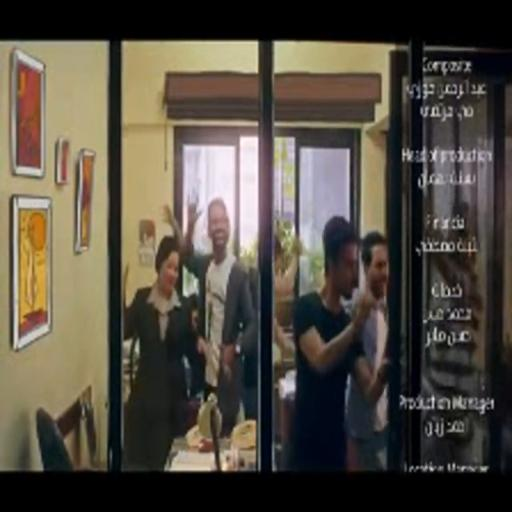nao-violencia: (118, 192, 260, 470)
